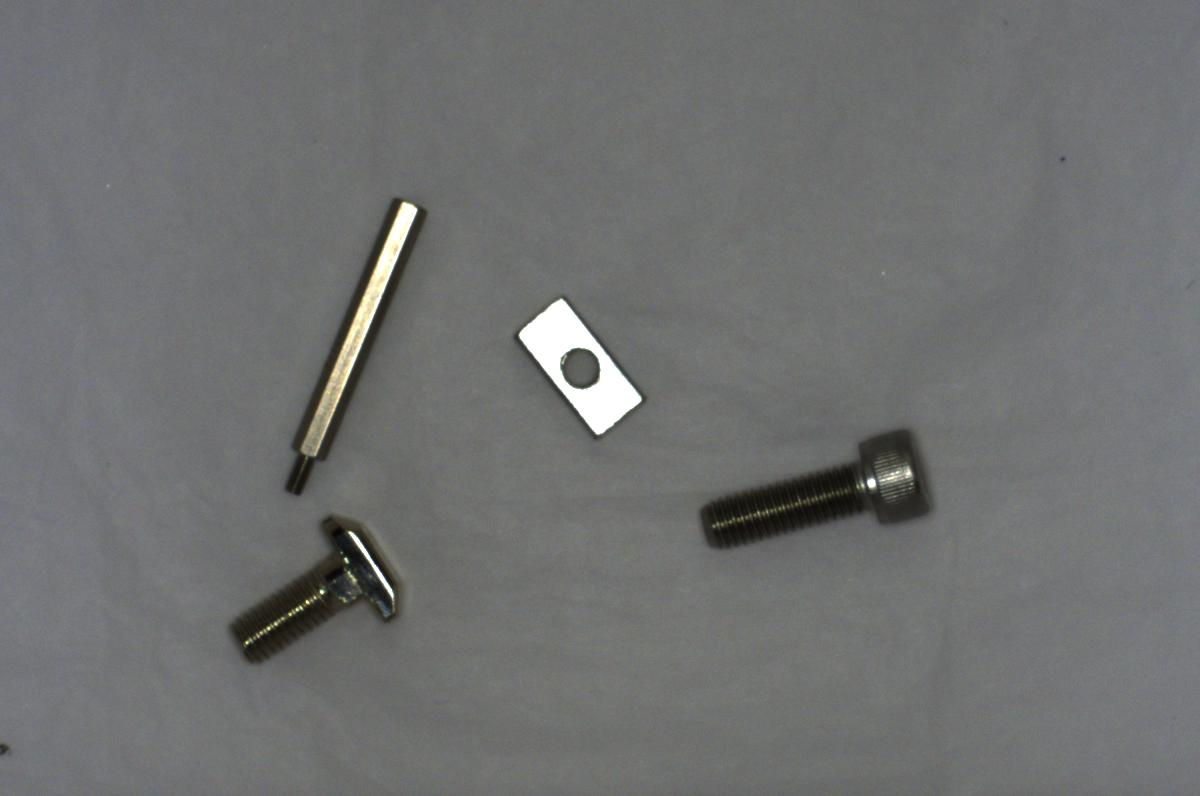Hexagon screw: (694, 423, 934, 555)
Hexagonal steel column: (264, 185, 428, 502)
Rectangular nut: (517, 289, 647, 443)
T-shaped screw: (220, 503, 406, 668)
